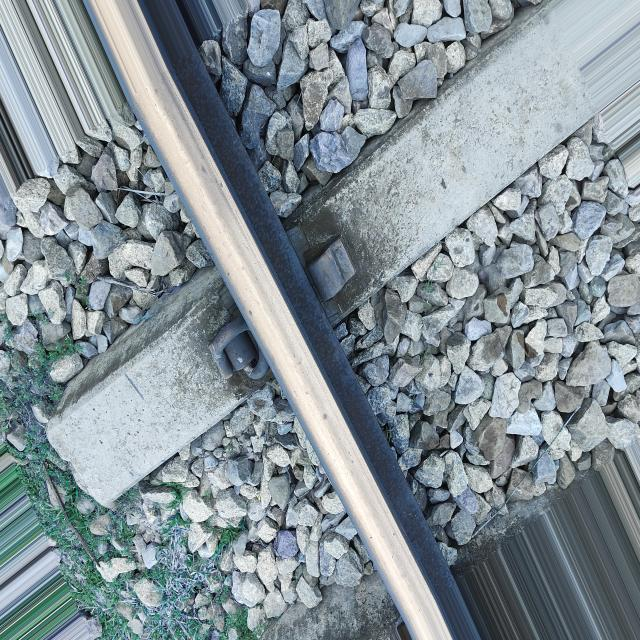Good Fasteners: (210, 314, 269, 380)
Missing Fastener: (308, 238, 355, 300)
